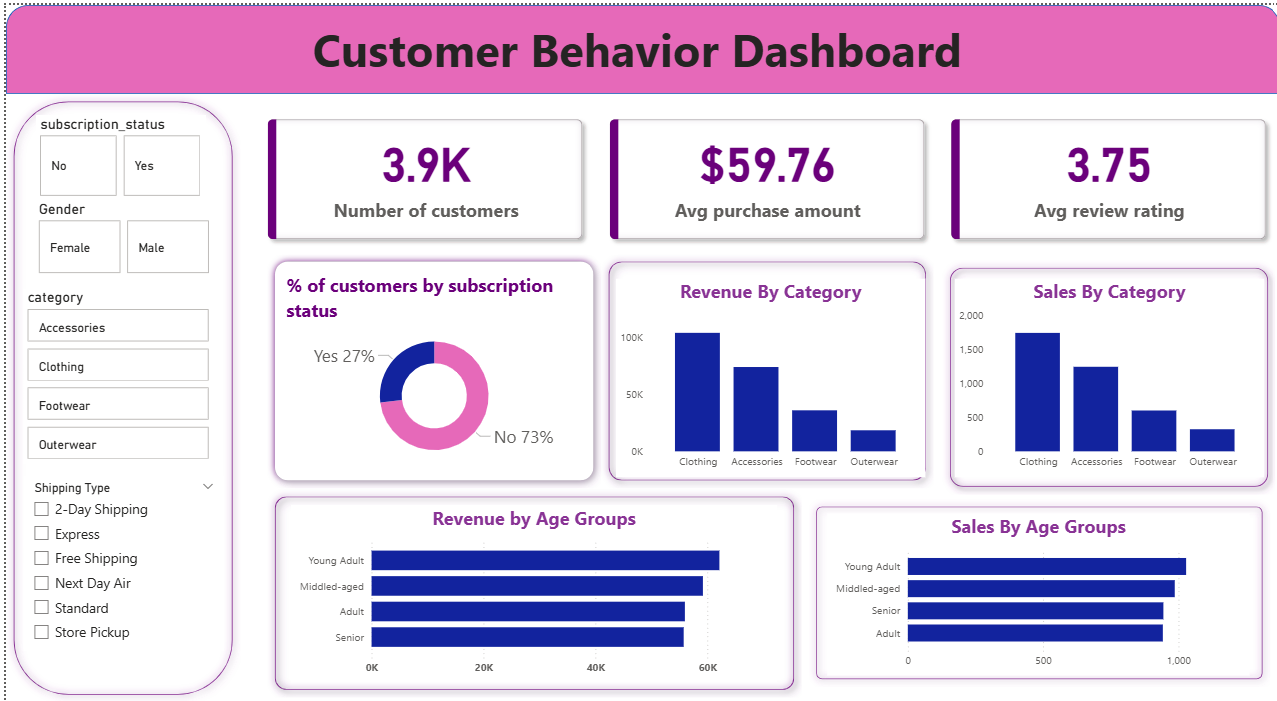

Layout of this report page (visuals, bound fields, positions):
{"tool":"powerbi","page":{"name":"Page 1","canvas":[1500,820],"ordinal":0},"visuals":[{"type":"shape","box":[0,0,1500.3,104.5],"z":0},{"type":"shape","box":[944.2,580.7,543.1,221.4],"z":1000},{"type":"shape","box":[307.4,293.1,392.9,275.7],"z":2000},{"type":"shape","box":[1101,299.4,392.4,275.8],"z":3000},{"type":"shape","box":[700.5,292.5,391.3,275.7],"z":4000},{"type":"shape","box":[0,104.6,275.7,716.1],"z":5000},{"type":"shape","box":[307.4,568.8,629,245.6],"z":6000},{"type":"cardVisual","fields":{"Data":["customer_behaviour customer.Number of customers","customer_behaviour customer.Avg purchase amount","customer_behaviour customer.Avg review rating"]},"box":[291.5,117.2,1208.8,175.9],"z":7000},{"type":"textbox","box":[0,9.6,1500.3,94.9],"z":8000},{"type":"donutChart","title":"% of customers by subscription status","fields":{"Category":["customer_behaviour customer.subscription_status"],"Y":["CountNonNull(customer_behaviour customer.customer_id)"]},"box":[324.8,315.3,358,232.9],"z":9000},{"type":"clusteredColumnChart","title":"Revenue By Category","fields":{"Category":["customer_behaviour customer.category"],"Y":["Sum(customer_behaviour customer.purchase_amount)"]},"box":[717.1,321.5,364,233.2],"z":10000},{"type":"clusteredColumnChart","title":"Sales By Category","fields":{"Category":["customer_behaviour customer.category"],"Y":["CountNonNull(customer_behaviour customer.customer_id)"]},"box":[1115.8,321.5,364,233.2],"z":11000},{"type":"advancedSlicerVisual","fields":{"Values":["customer_behaviour customer.gender"]},"box":[33.3,229.7,210.7,91.9],"z":12000},{"type":"advancedSlicerVisual","fields":{"Values":["customer_behaviour customer.category"]},"box":[20.6,334.3,223.4,206],"z":13000},{"type":"slicer","fields":{"Values":["customer_behaviour customer.shipping_type"]},"box":[20.6,554.5,236.1,206],"z":14000},{"type":"clusteredBarChart","title":"Revenue by Age Groups","fields":{"Y":["Sum(customer_behaviour customer.purchase_amount)"],"Category":["customer_behaviour customer.age_groups"]},"box":[335.9,587.8,571.9,209.1],"z":15000},{"type":"advancedSlicerVisual","fields":{"Values":["customer_behaviour customer.subscription_status"]},"box":[34.6,129.1,199.9,100.8],"z":16000},{"type":"clusteredBarChart","title":"Sales By Age Groups","fields":{"Category":["customer_behaviour customer.age_groups"],"Y":["CountNonNull(customer_behaviour customer.customer_id)"]},"box":[966.5,598.8,497.2,190.8],"z":17000}]}

Visuals, with their boxes in screenshot pixels (x1, y1, x2, y2), scaled from the page's 1500x820 canvas onto the 1277x701 screenshot:
shape: (0, 0, 1276, 89)
shape: (804, 496, 1266, 686)
shape: (262, 251, 596, 486)
shape: (937, 256, 1271, 492)
shape: (596, 250, 929, 486)
shape: (0, 89, 235, 700)
shape: (262, 486, 797, 696)
cardVisual - customer_behaviour customer.Number of customers x customer_behaviour customer.Avg purchase amount: (248, 100, 1276, 251)
textbox: (0, 8, 1276, 89)
"% of customers by subscription status" donutChart: (277, 270, 581, 469)
"Revenue By Category" clusteredColumnChart: (610, 275, 920, 474)
"Sales By Category" clusteredColumnChart: (950, 275, 1260, 474)
advancedSlicerVisual - customer_behaviour customer.gender: (28, 196, 208, 275)
advancedSlicerVisual - customer_behaviour customer.category: (18, 286, 208, 462)
slicer - customer_behaviour customer.shipping_type: (18, 474, 219, 650)
"Revenue by Age Groups" clusteredBarChart: (286, 502, 773, 681)
advancedSlicerVisual - customer_behaviour customer.subscription_status: (29, 110, 200, 197)
"Sales By Age Groups" clusteredBarChart: (823, 512, 1246, 675)
